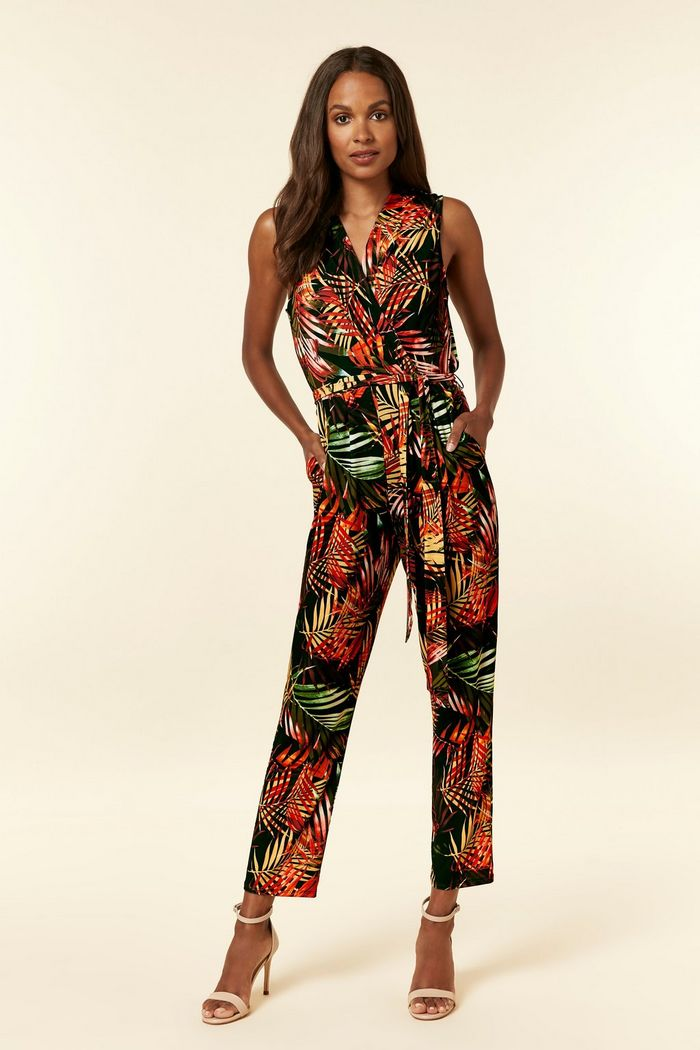C_suit: (209, 201, 544, 889)
